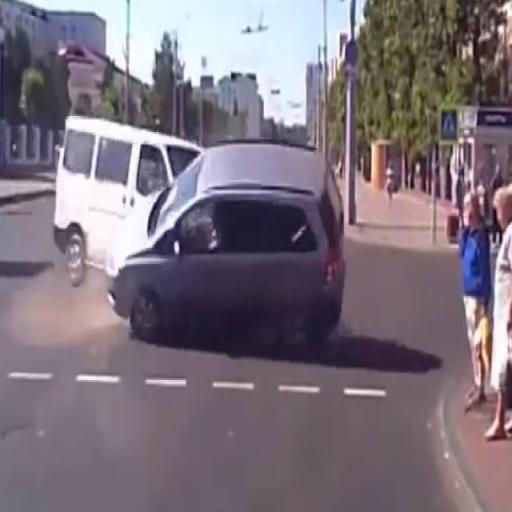小汽车: (452, 180, 504, 412)
小汽车撞小汽车: (54, 117, 344, 345)
